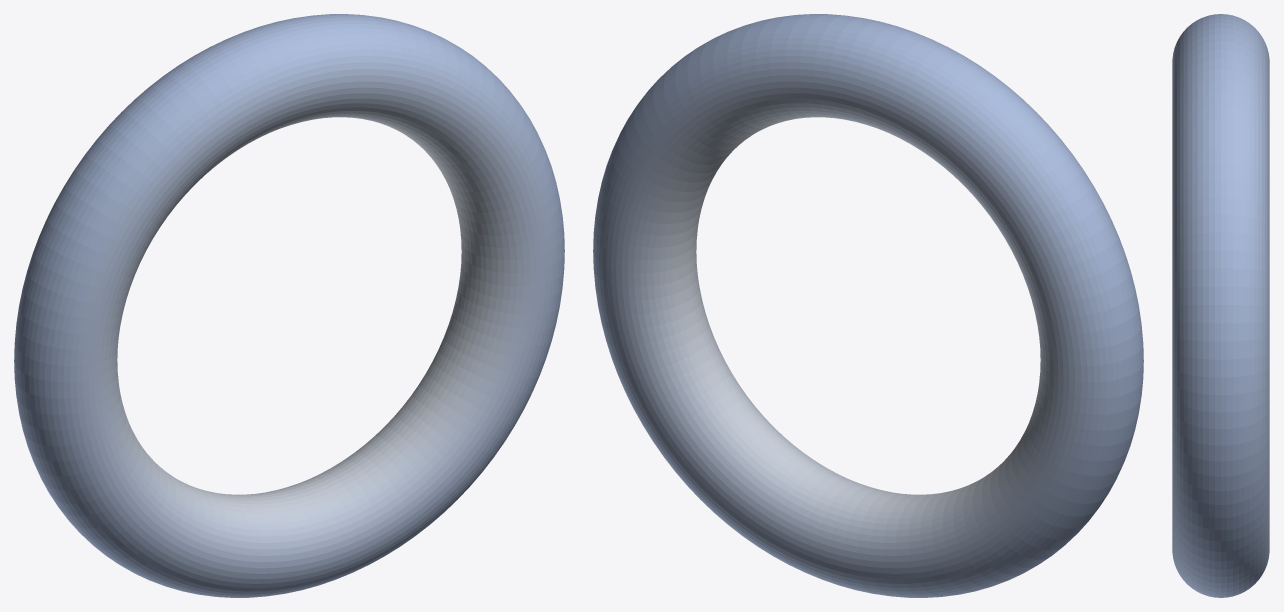
3 views of the same model, side by side, from view 1: azimuth 30°, elevation 25°; view 2: azimuth 150°, elevation 25°; view 3: azimuth 270°, elevation 25° (orthographic). The views are drawn at different scales.
Parts seen in each view (by area): view 1: world; view 2: world; view 3: world.
Part boxes in pixels (x1=…): world: x1=14, y1=14, x2=564, y2=597; world: x1=593, y1=14, x2=1143, y2=597; world: x1=1172, y1=14, x2=1269, y2=597.
Size of the model in its own units: 26.4 by 26.4 by 4.39.
